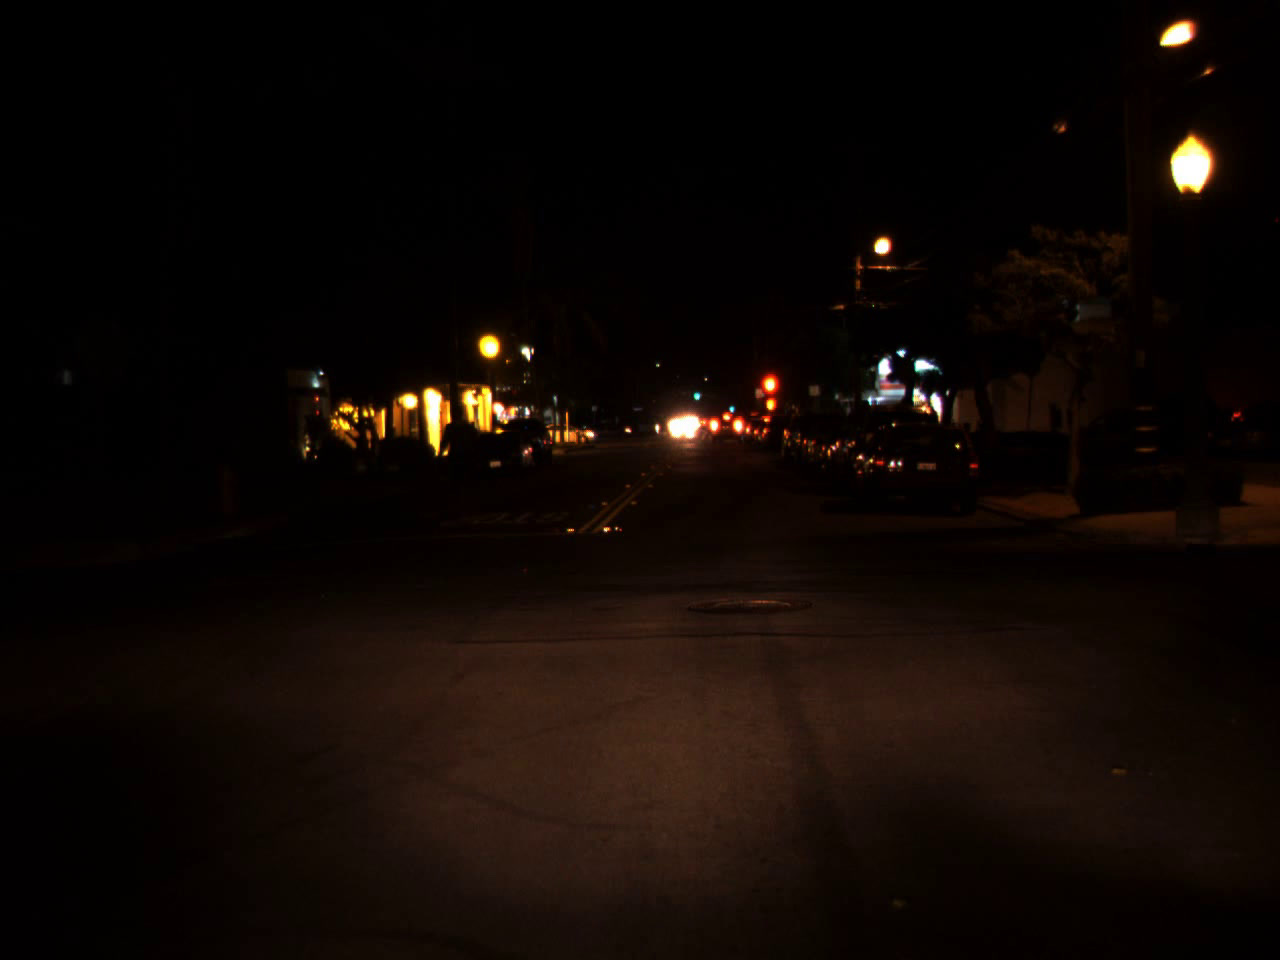go: (691, 388, 701, 400), (728, 399, 735, 414)
stop: (758, 370, 782, 421)
